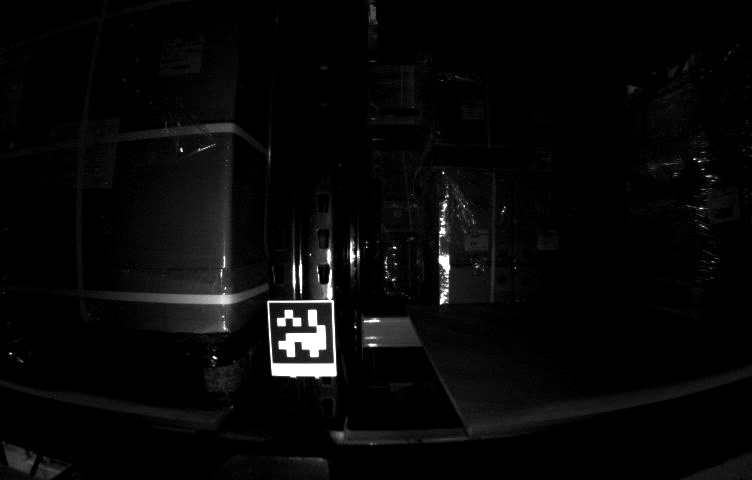True Barcode: (152, 37, 205, 71)
